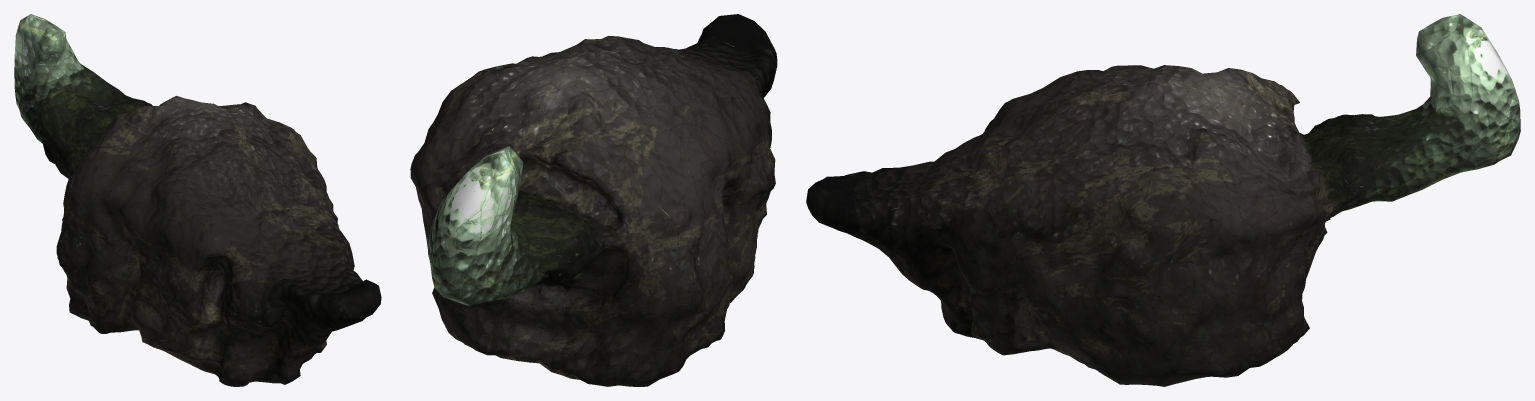
Rendered from cave3.gltf.
3 renders of one model, left to right at view 1: azimuth 30°, elevation 25°; view 2: azimuth 150°, elevation 25°; view 3: azimuth 270°, elevation 25°, orthographic. The views are drawn at different scales.
Visible parts, largest first — view 1: Icosphere; view 2: Icosphere; view 3: Icosphere.
Part boxes in pixels (<box>): Icosphere: <box>14,14,381,386</box>; Icosphere: <box>410,14,777,386</box>; Icosphere: <box>806,14,1520,386</box>.
Size of the model in its own units: 249 by 249 by 547.
Materials: 1 (1 with a texture image).
